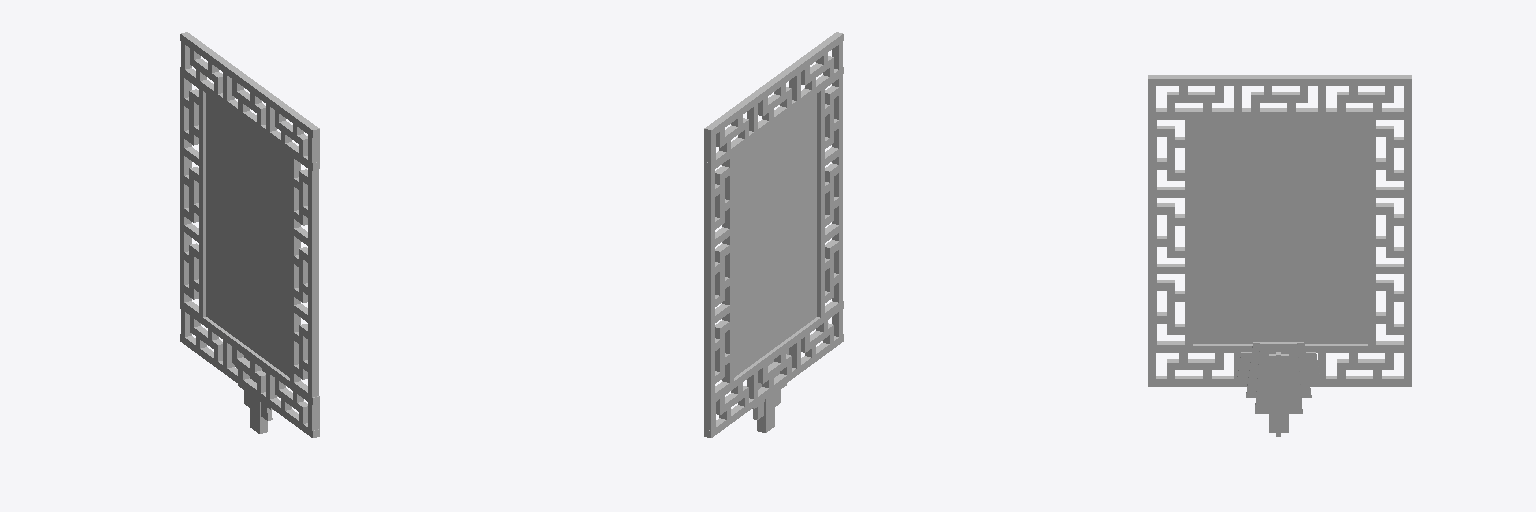
The model's file is picture frame.obj.
3 views of the same model, side by side, from view 1: azimuth 30°, elevation 25°; view 2: azimuth 150°, elevation 25°; view 3: azimuth 270°, elevation 25° (orthographic).
Visible parts, largest first — view 1: polySurface6, pPlane1; view 2: polySurface6, pPlane1; view 3: pPlane1, polySurface6.
Boxes of the visible parts, <box> form: polySurface6: <box>180,32,319,437</box>; pPlane1: <box>206,93,289,377</box>; polySurface6: <box>704,32,843,437</box>; pPlane1: <box>734,94,816,377</box>; pPlane1: <box>1193,119,1367,343</box>; polySurface6: <box>1148,75,1411,436</box>.
Size of the model in its own units: 1.92 by 34.15 by 23.23.